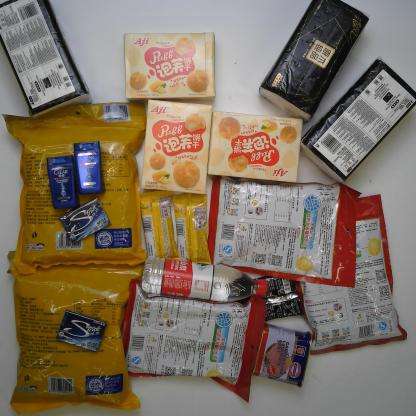Canned Food: (251, 322, 315, 390)
Chocolate: (137, 189, 181, 263), (172, 191, 214, 266)
Dessert: (206, 110, 304, 186), (139, 98, 214, 197), (122, 30, 218, 104)
Dried Food: (2, 99, 150, 276), (6, 247, 144, 414)
Drink: (140, 253, 269, 305)
Gum: (58, 196, 113, 244), (55, 308, 110, 356)
Instant Drink: (205, 171, 363, 291), (121, 276, 268, 404), (294, 193, 409, 356), (249, 272, 305, 326)
Personal Hygiene: (45, 154, 78, 210), (73, 140, 104, 195)
Tissue: (298, 55, 414, 185), (257, 1, 371, 126), (1, 1, 94, 119)
